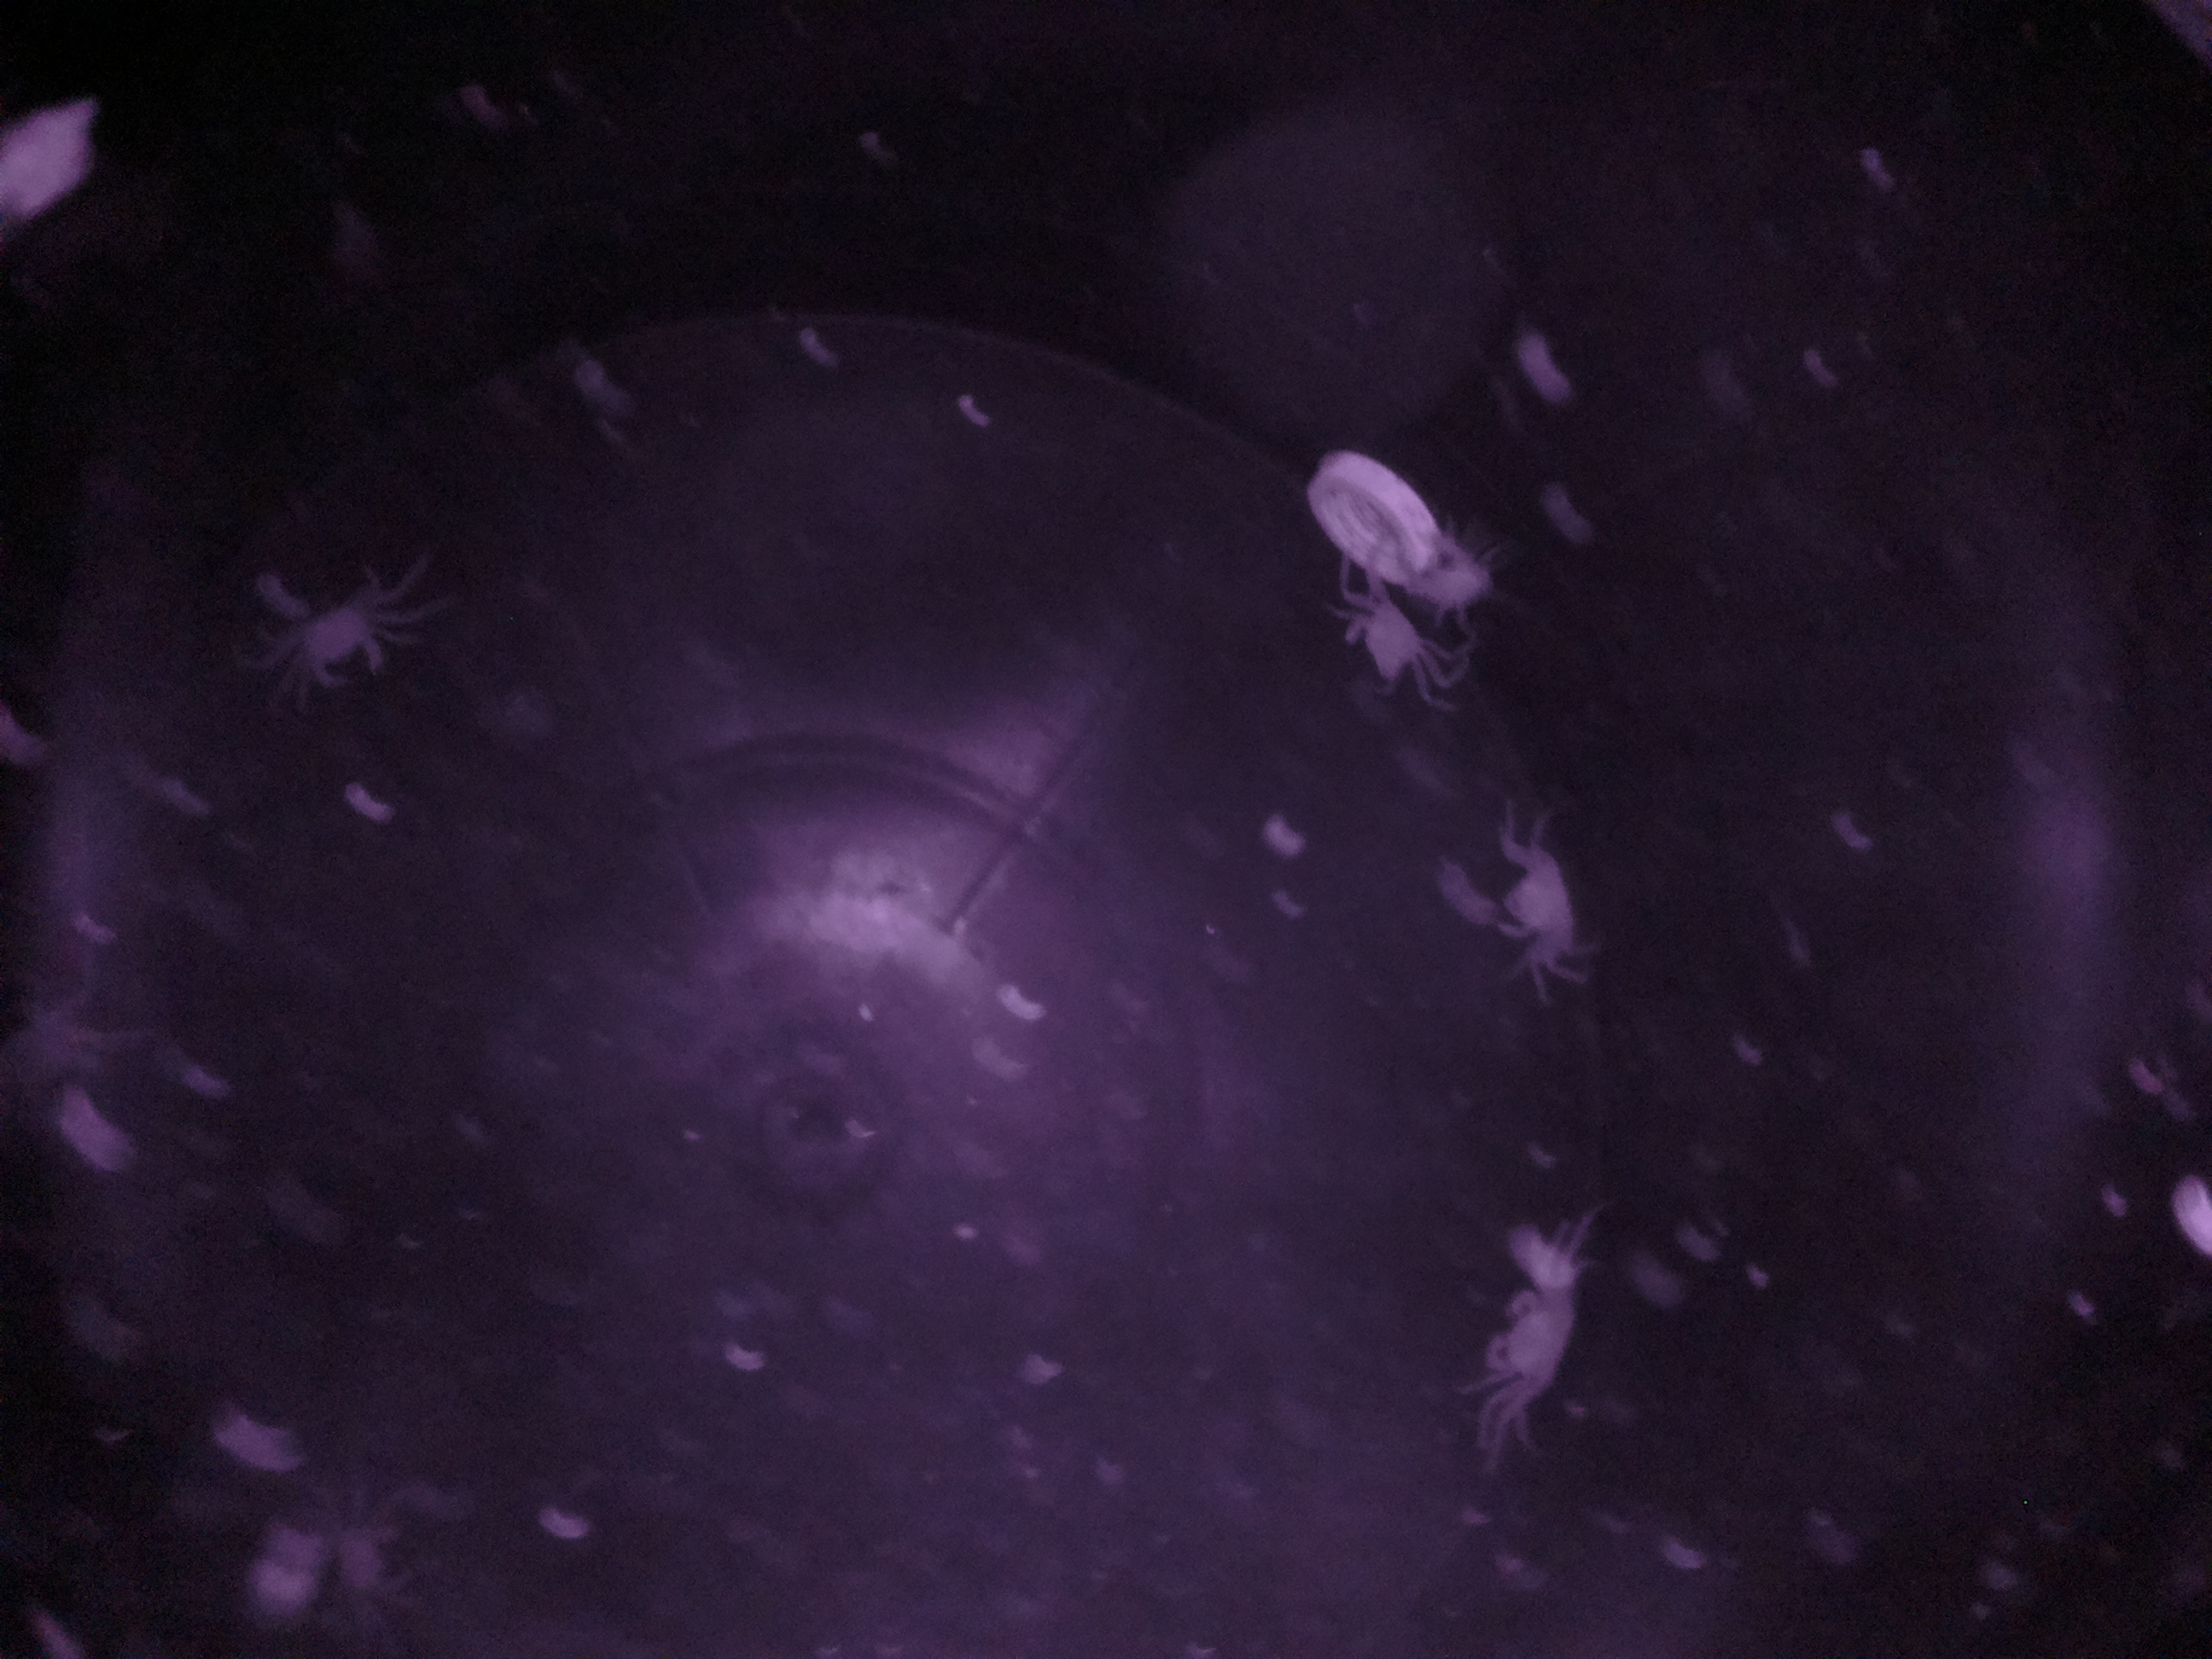Crab: (1461, 1263, 1595, 1439), (287, 561, 404, 718), (1331, 580, 1435, 711)
